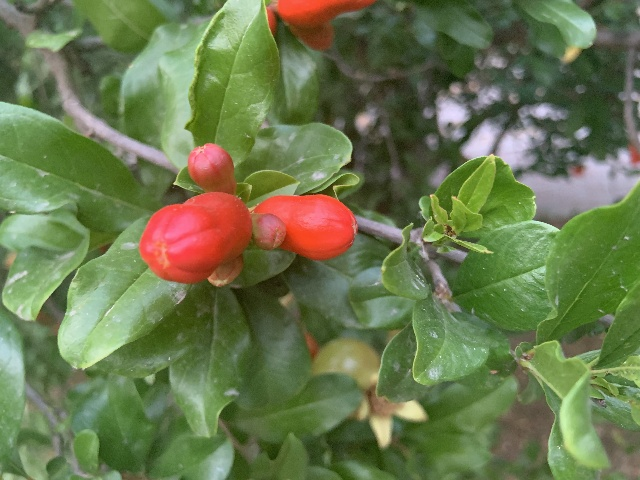bud: (139, 191, 251, 286), (253, 192, 357, 261), (187, 143, 237, 194), (283, 17, 335, 51), (207, 252, 245, 287), (251, 213, 284, 252)
mid-growth: (311, 337, 426, 449)
